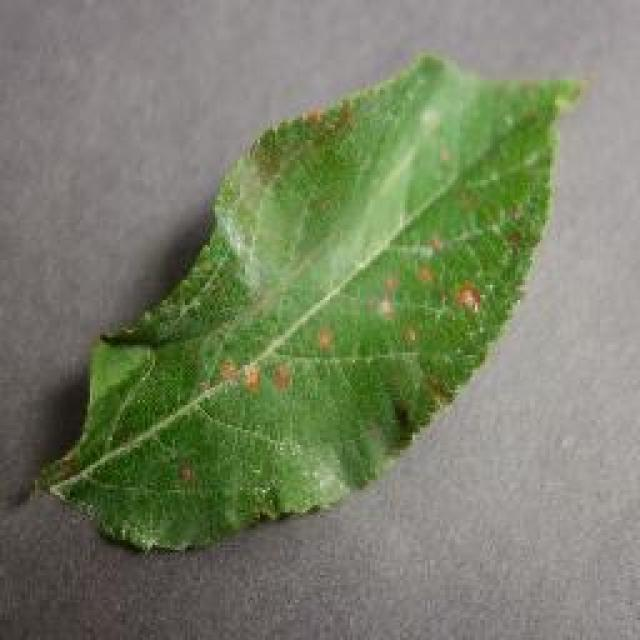apple healthy: (27, 50, 585, 555)
